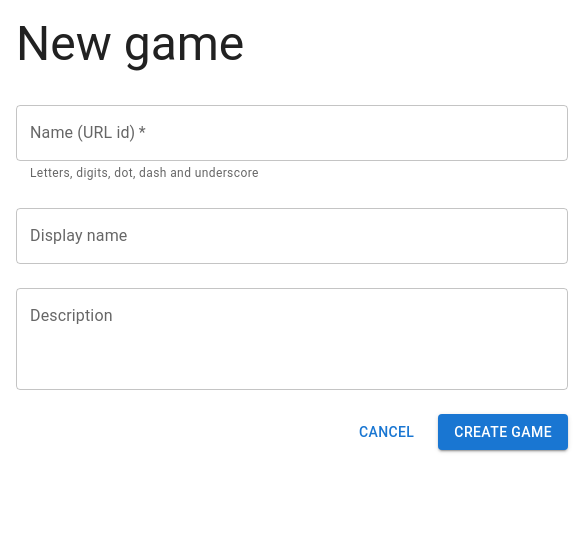
Test: create game / dependency pages › rejects bad names and shows API errors
Type "bad name!" into the field with test id "gd-name" at (292, 133), box [16,105,568,161]
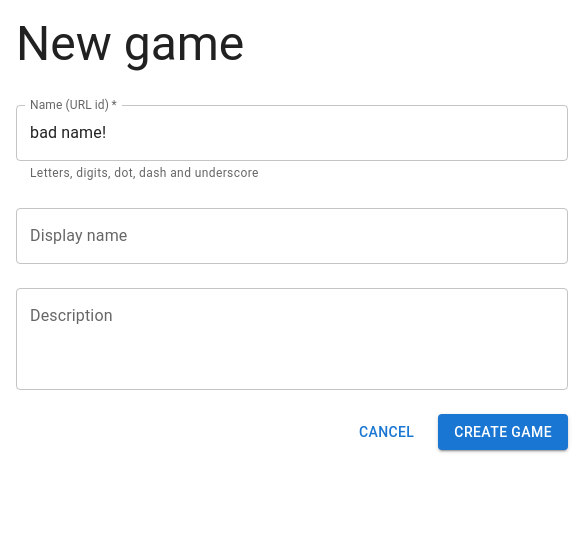
Submit the form with test id "gamedep-create"
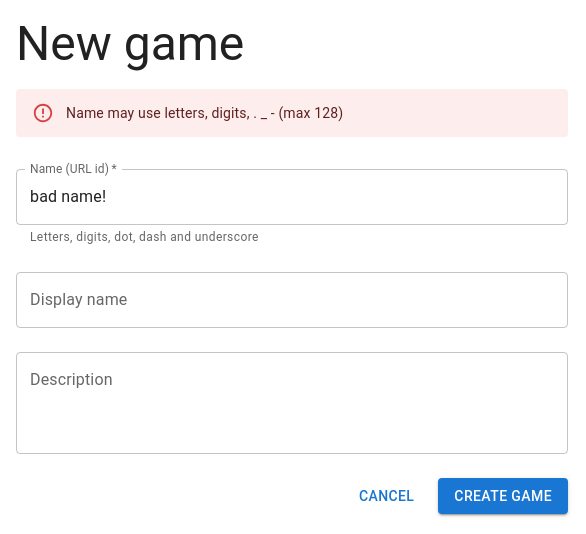
expect the message with test id "create-error" shows "Name may": met, box [66,105,343,121]
Replace the text in the field with test id "gd-name" with "ok" at (292, 197), box [16,169,568,225]
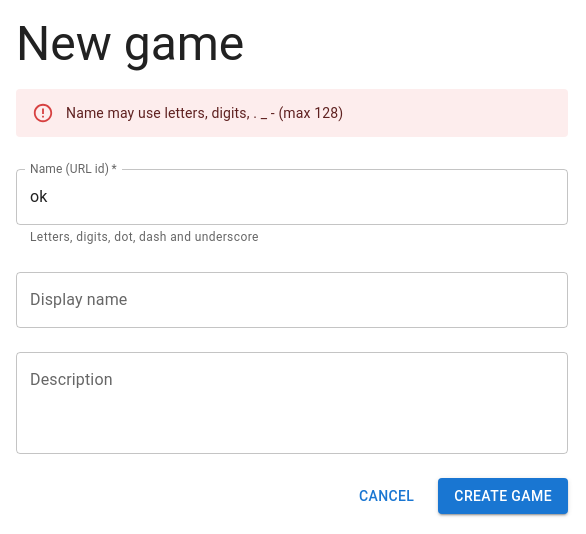
Submit the form with test id "gamedep-create"
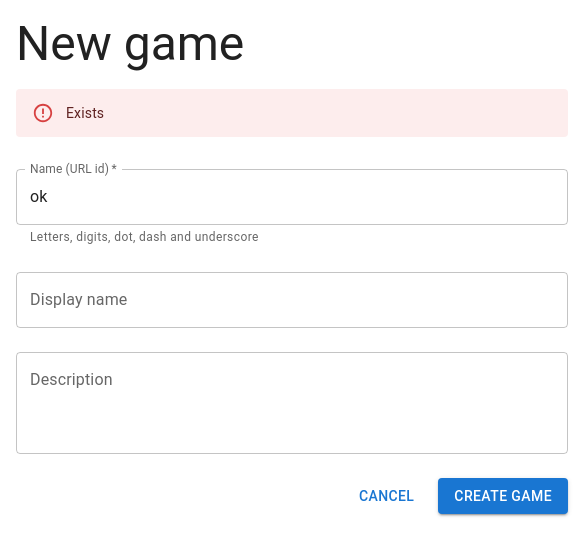
expect the message with test id "create-error" reads "Exists": met, box [66,105,104,121]
